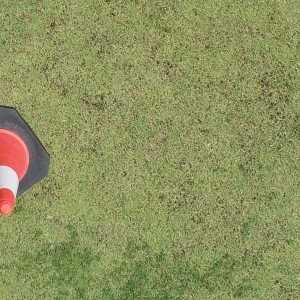traffic cone: (1, 105, 49, 214)
